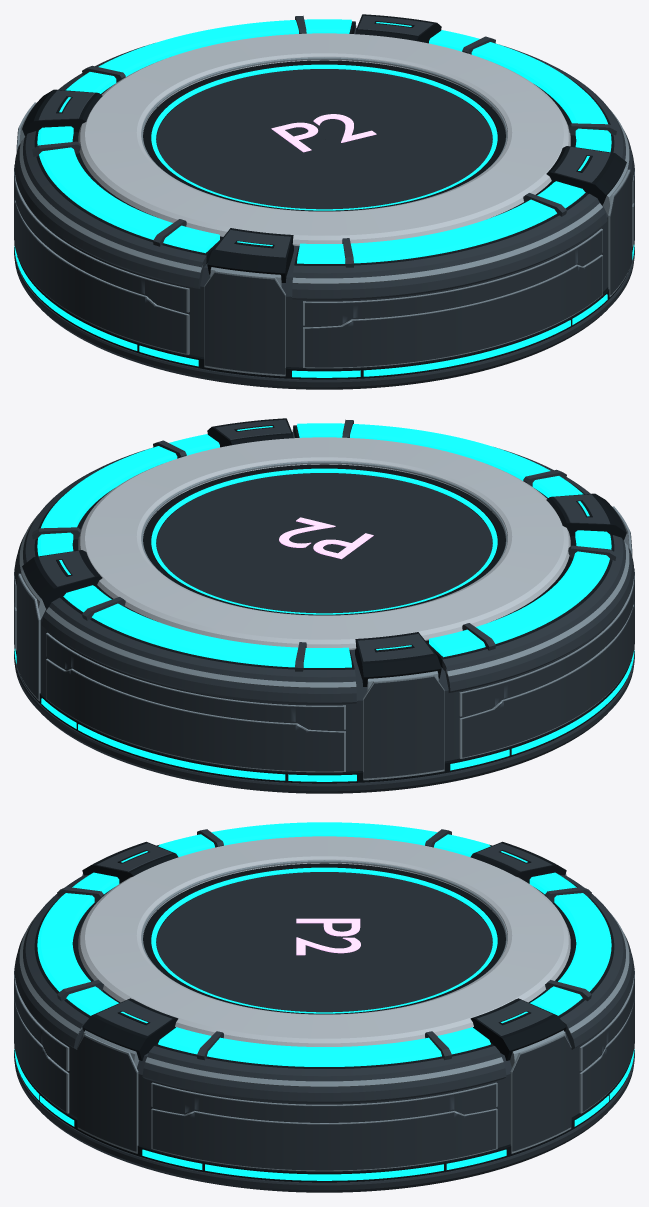
The model's file is Grippy.fbx.
The picture shows the model from 3 angles, top to bottom: view 1: azimuth 30°, elevation 25°; view 2: azimuth 150°, elevation 25°; view 3: azimuth 270°, elevation 25°; orthographic projection.
Visible parts, largest first — view 1: SM_Puck_Grippy_P2_HighDetail; view 2: SM_Puck_Grippy_P2_HighDetail; view 3: SM_Puck_Grippy_P2_HighDetail.
Part boxes in pixels (x1,y1,x2,y2): SM_Puck_Grippy_P2_HighDetail: [14, 14, 634, 389]; SM_Puck_Grippy_P2_HighDetail: [14, 418, 634, 793]; SM_Puck_Grippy_P2_HighDetail: [14, 822, 634, 1192].
Bounding box in the file's own units: 90.3 × 90.3 × 20.9.
